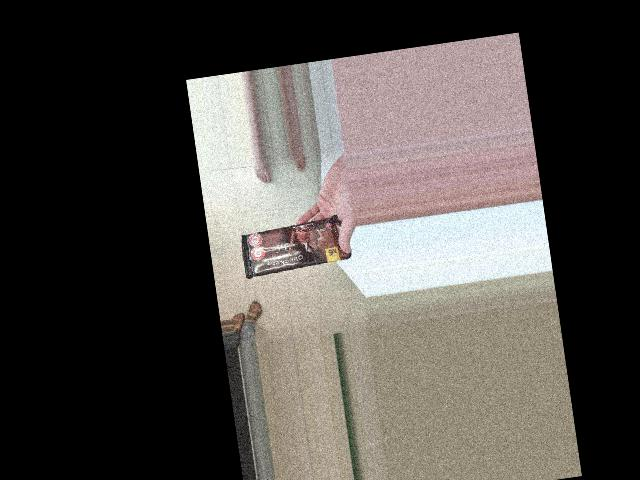chocolate: (232, 210, 305, 328)
